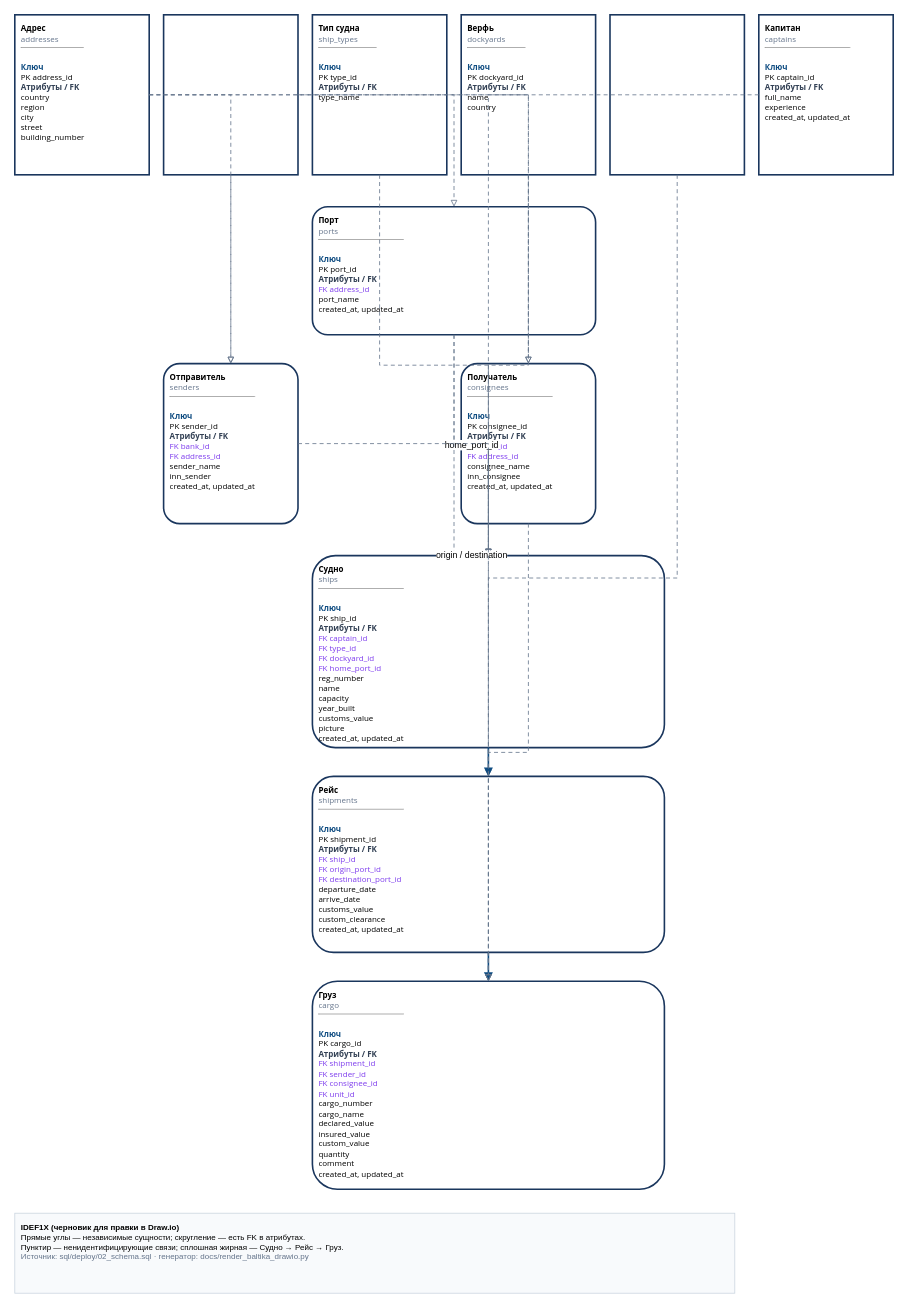
This 907x1307 diagram has some shape labels left out. Each missing label, with the centre of its shape:
Банк banks Ключ PK bank_id Атрибуты / FK bank_name: pixel 230 94
Ед. изм. units Ключ PK unit_id Атрибуты / FK unit_name unit_code: pixel 677 94
